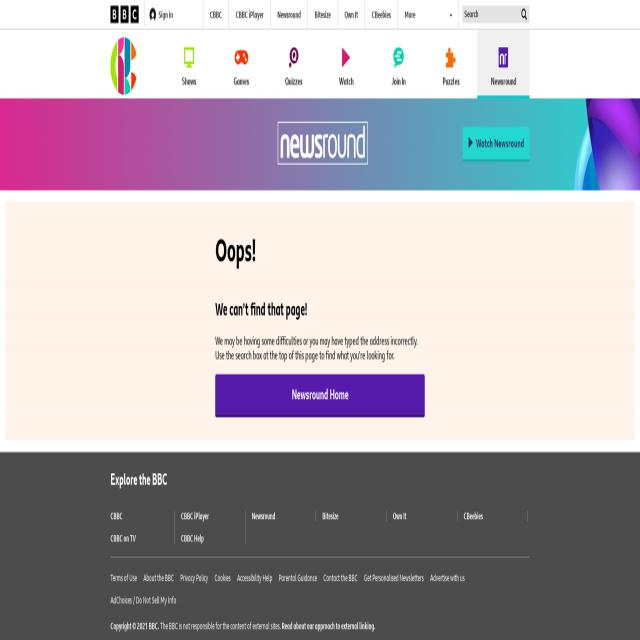button: (215, 374, 425, 417), (277, 122, 368, 166), (215, 29, 268, 98), (372, 29, 425, 98), (477, 29, 529, 98), (111, 29, 163, 98), (163, 29, 215, 98), (268, 29, 320, 98), (320, 29, 372, 98), (425, 29, 477, 98), (464, 127, 530, 160), (398, 0, 458, 29), (229, 0, 271, 29), (270, 0, 308, 29), (365, 0, 397, 29), (308, 0, 338, 29), (203, 0, 229, 29), (338, 0, 364, 29), (147, 2, 177, 27), (110, 6, 140, 23), (519, 6, 529, 23)
field: (462, 6, 519, 23)
